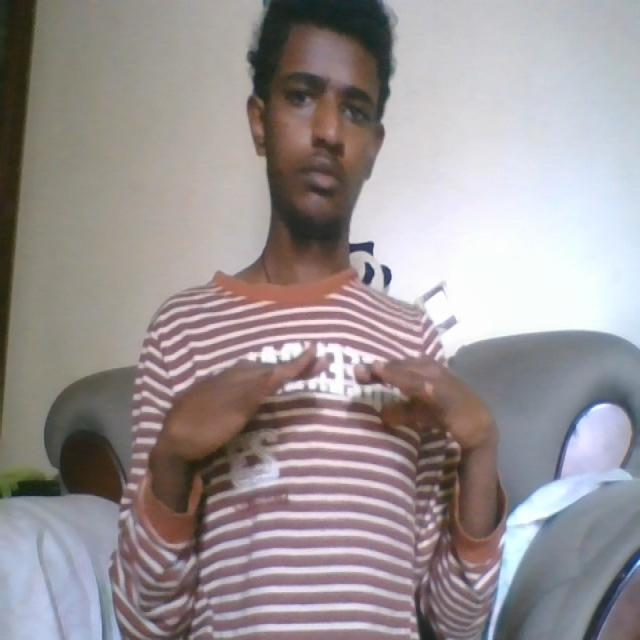meznanat: (164, 341, 483, 465)
